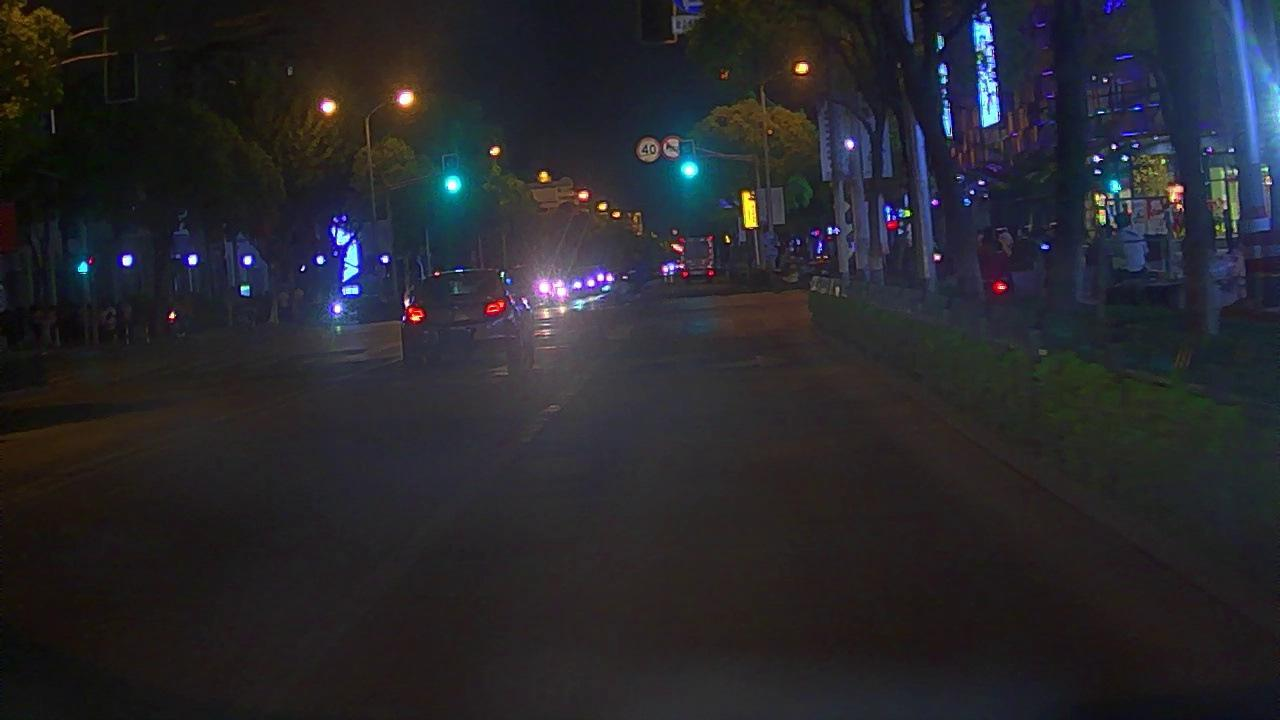traffic_light: (442, 155, 460, 198), (678, 140, 696, 182)
